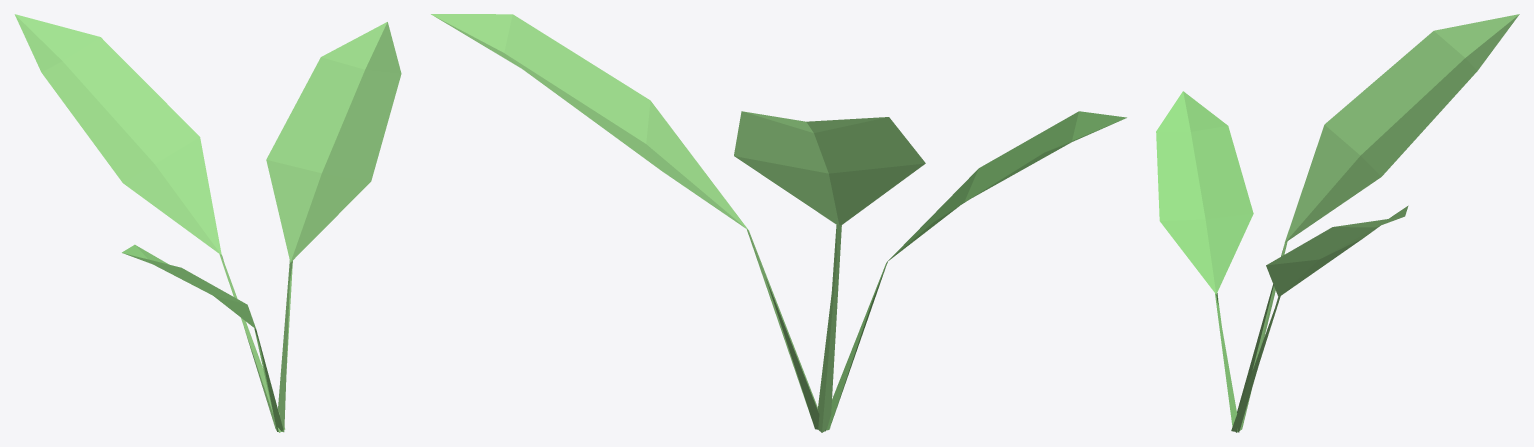
File: Plant_j_OneS_08.fbx
3 views of the same model, side by side, from view 1: azimuth 30°, elevation 25°; view 2: azimuth 150°, elevation 25°; view 3: azimuth 270°, elevation 25° (orthographic). The views are drawn at different scales.
Visible parts, largest first — view 1: Plant_j_OneS_08; view 2: Plant_j_OneS_08; view 3: Plant_j_OneS_08.
Boxes of the visible parts, <box> form: Plant_j_OneS_08: <box>14,14,401,432</box>; Plant_j_OneS_08: <box>431,14,1126,432</box>; Plant_j_OneS_08: <box>1156,14,1519,432</box>.
Size of the model in its own units: 27.47 by 24.22 by 22.61.
